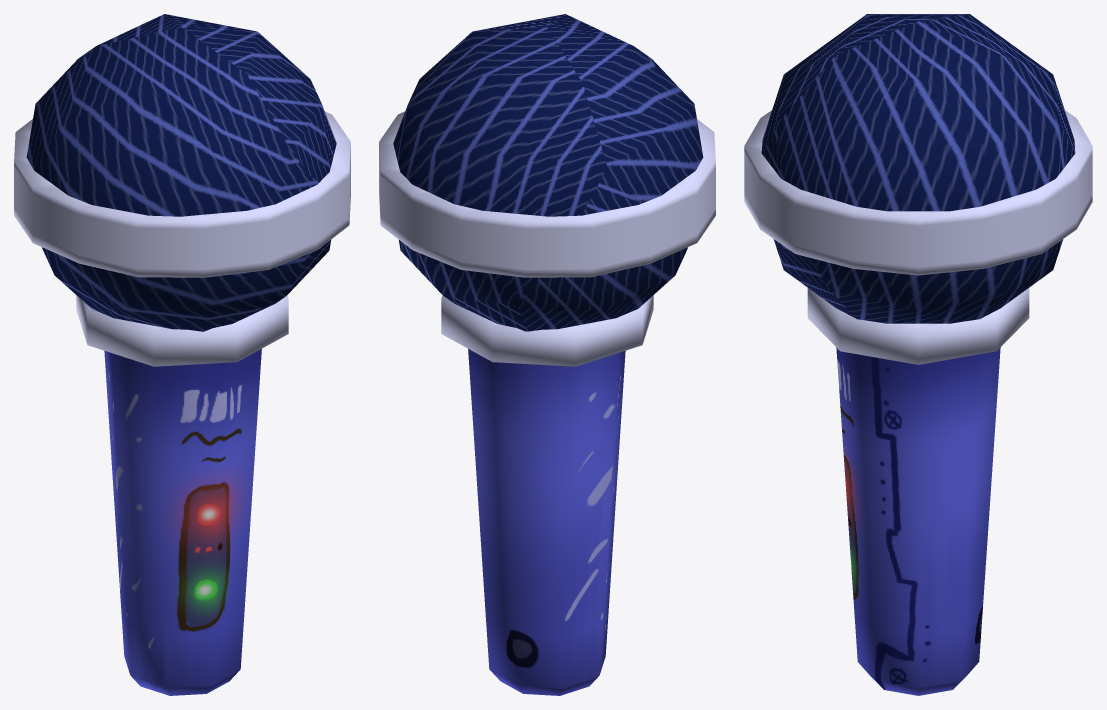
File: Microphone.glb
3 renders of one model, left to right at view 1: azimuth 30°, elevation 25°; view 2: azimuth 150°, elevation 25°; view 3: azimuth 270°, elevation 25°, orthographic.
Visible parts, largest first — view 1: Microphone; view 2: Microphone; view 3: Microphone.
Boxes of the visible parts, box(x1,y1,x2,y2) form: Microphone: box(14, 14, 350, 695); Microphone: box(379, 14, 715, 695); Microphone: box(744, 14, 1092, 695).
Size of the model in its own units: 1.61 by 3.33 by 1.61.
Materials: 3 (2 with a texture image).
